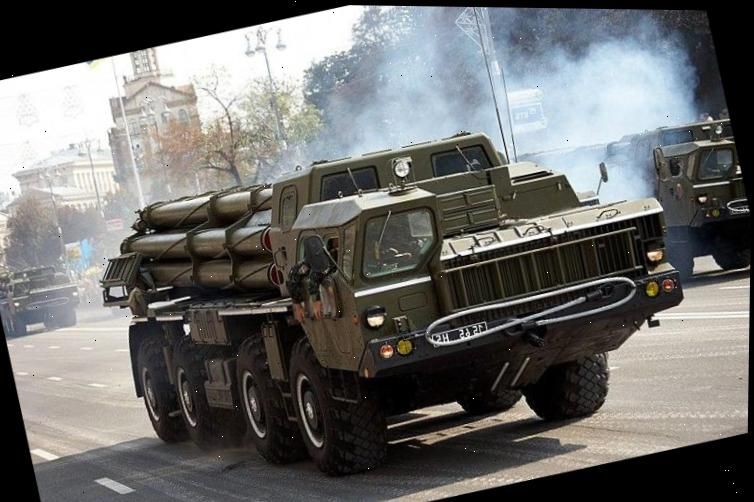rszo: (88, 75, 715, 502), (591, 107, 753, 300), (0, 253, 89, 345)
